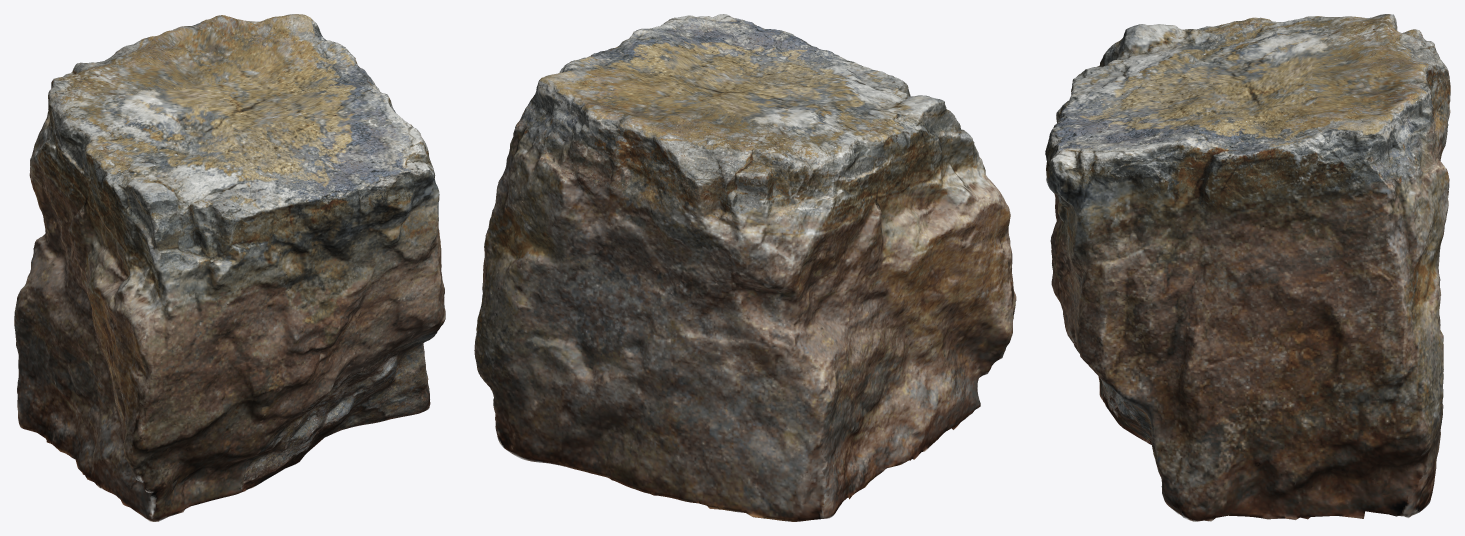
Rendered from sparse3.glb.
3 renders of one model, left to right at view 1: azimuth 30°, elevation 25°; view 2: azimuth 150°, elevation 25°; view 3: azimuth 270°, elevation 25°, orthographic. The views are drawn at different scales.
Bounding box in the file's own units: 2.81 × 2.63 × 2.52.
Materials: 1 (1 with a texture image).
